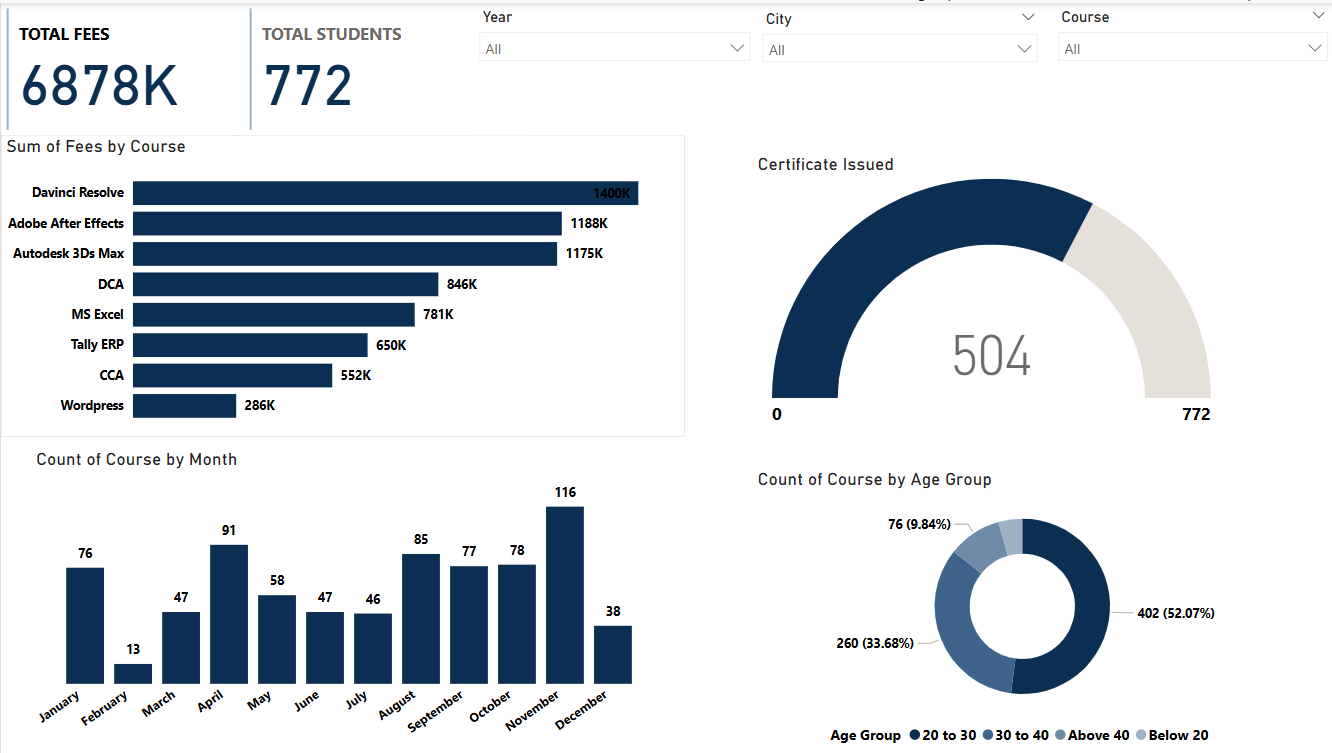

The dashboard page shown, as its layout file describes it:
{"tool":"powerbi","page":{"name":"Page 2","canvas":[1280,720],"ordinal":0},"visuals":[{"type":"clusteredColumnChart","fields":{"Category":["Student Course Details.Date of Joining.Variation.Date Hierarchy.Year","Student Course Details.Date of Joining.Variation.Date Hierarchy.Quarter","Student Course Details.Date of Joining.Variation.Date Hierarchy.Month","Student Course Details.Date of Joining.Variation.Date Hierarchy.Day"],"Y":["Student Course Details.Course"]},"box":[28.7,426.5,598.8,293],"z":0},{"type":"donutChart","fields":{"Y":["Student Course Details.Course"],"Category":["Table2.Age (bins)"]},"box":[718.9,445.9,515.9,274.3],"z":1000},{"type":"clusteredBarChart","fields":{"Category":["Student Course Details.Course"],"Y":["Student Course Details.Fees"]},"box":[0,126.9,654.9,287.6],"z":2000},{"type":"cardVisual","fields":{"Data":["Student Course Details.Fees"]},"box":[0,0,222.3,126.9],"z":3000},{"type":"cardVisual","fields":{"Data":["Table2.Student Name"]},"box":[233.2,0,276.7,126.9],"z":4000},{"type":"gauge","fields":{"Y":["Student Course Details.CountYes"]},"box":[718.9,143.8,456.7,270.7],"z":5000},{"type":"slicer","fields":{"Values":["Student Course Details.Date of Joining.Variation.Date Hierarchy.Year"]},"box":[448.3,0,279.1,126.9],"z":6000},{"type":"slicer","fields":{"Values":["Table2.City"]},"box":[718.9,1.2,282.7,126.9],"z":7000},{"type":"slicer","fields":{"Values":["Student Course Details.Course"]},"box":[1001.7,0,277.9,126.9],"z":8000}]}

Visuals, with their boxes in screenshot pixels (x1, y1, x2, y2), scaled from the page's 1280x720 canvas onto the 1332x753 screenshot:
clusteredColumnChart - Student Course Details.Date of Joining.Variation.Date Hierarchy.Year x Student Course Details.Date of Joining.Variation.Date Hierarchy.Quarter: rect(30, 446, 653, 752)
donutChart - Student Course Details.Course x Table2.Age (bins): rect(748, 466, 1285, 752)
clusteredBarChart - Student Course Details.Course x Student Course Details.Fees: rect(0, 133, 682, 433)
cardVisual - Student Course Details.Fees: rect(0, 0, 231, 133)
cardVisual - Table2.Student Name: rect(243, 0, 531, 133)
gauge - Student Course Details.CountYes: rect(748, 150, 1223, 433)
slicer - Student Course Details.Date of Joining.Variation.Date Hierarchy.Year: rect(467, 0, 757, 133)
slicer - Table2.City: rect(748, 1, 1042, 134)
slicer - Student Course Details.Course: rect(1042, 0, 1331, 133)
